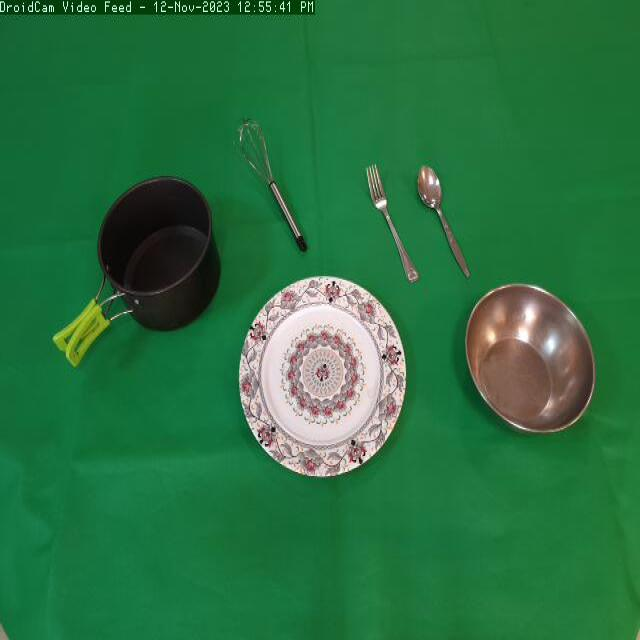bowl: (456, 281, 602, 443)
fork: (361, 157, 424, 290)
plate: (236, 270, 411, 490)
pot: (56, 173, 226, 374)
spoon: (414, 161, 481, 281)
whisk: (234, 112, 316, 258)
